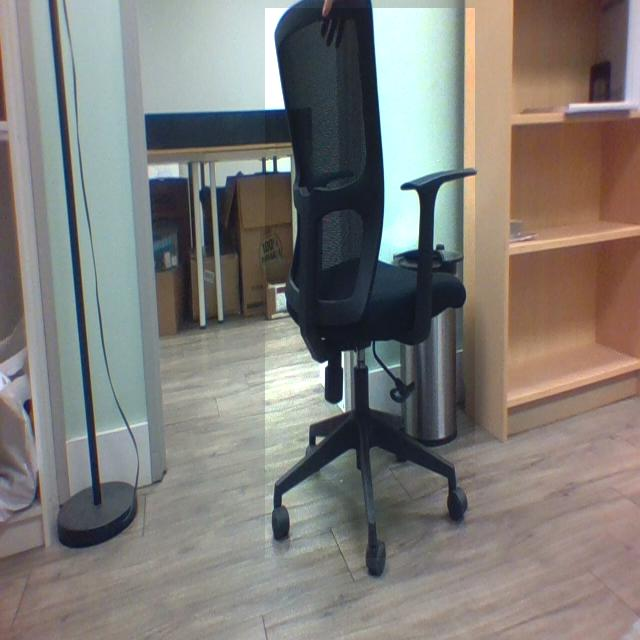black-chair: (265, 8, 476, 559)
